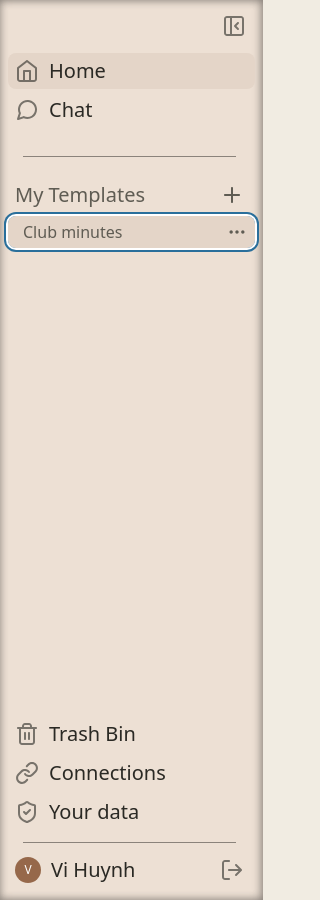
it: AppSidebar › says in words why a document could not be started, keeps the row, and stays on the page
Click the button with id "template-start-1". click: [132, 232]
box: left=8, top=216, right=255, bottom=248
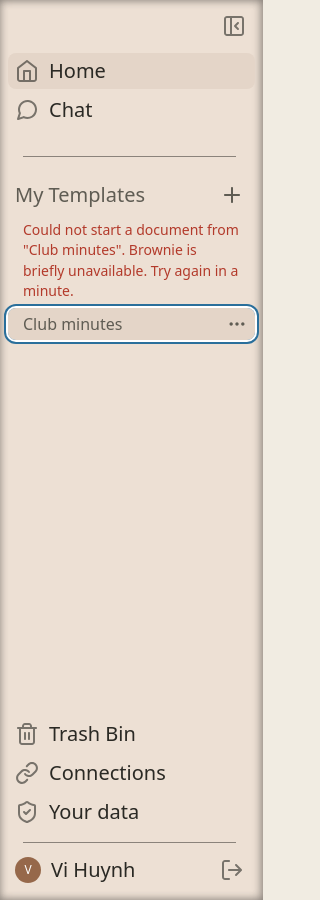
Now the message shows "Could not start a document from \"Club minutes\". Brownie is briefly unavailable. Try again in a minute.", box left=23, top=220, right=239, bottom=300
